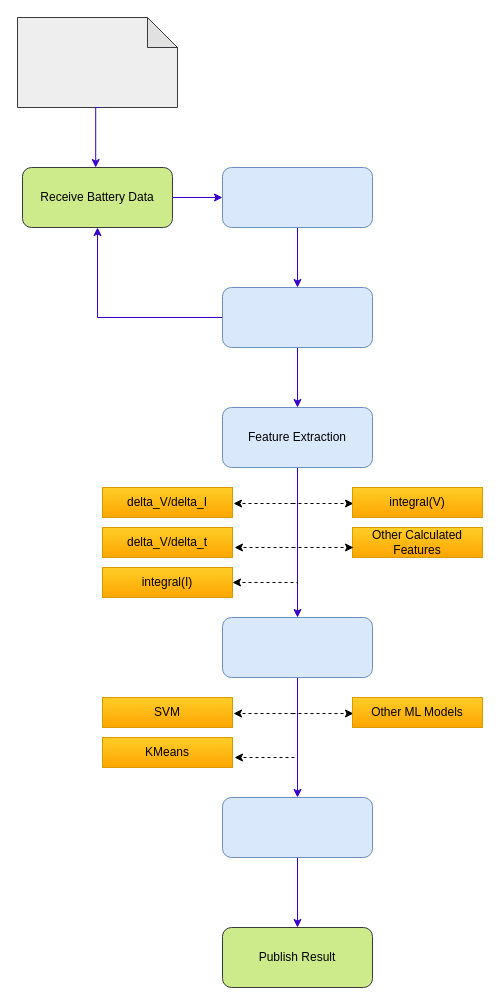
Image size: 500x1005. Some labels were removed from this diagram. Here are the shapes that lost their labels. From the top down, the centre of each, then its label:
At (97,62): "current & voltage sensor".
At (297,197): "Store in Data Samples".
At (297,317): "Accumulate N Latest Samples".
At (297,647): "Apply Machine Learning".
At (297,827): "Identify Faulty Cell(s)".
